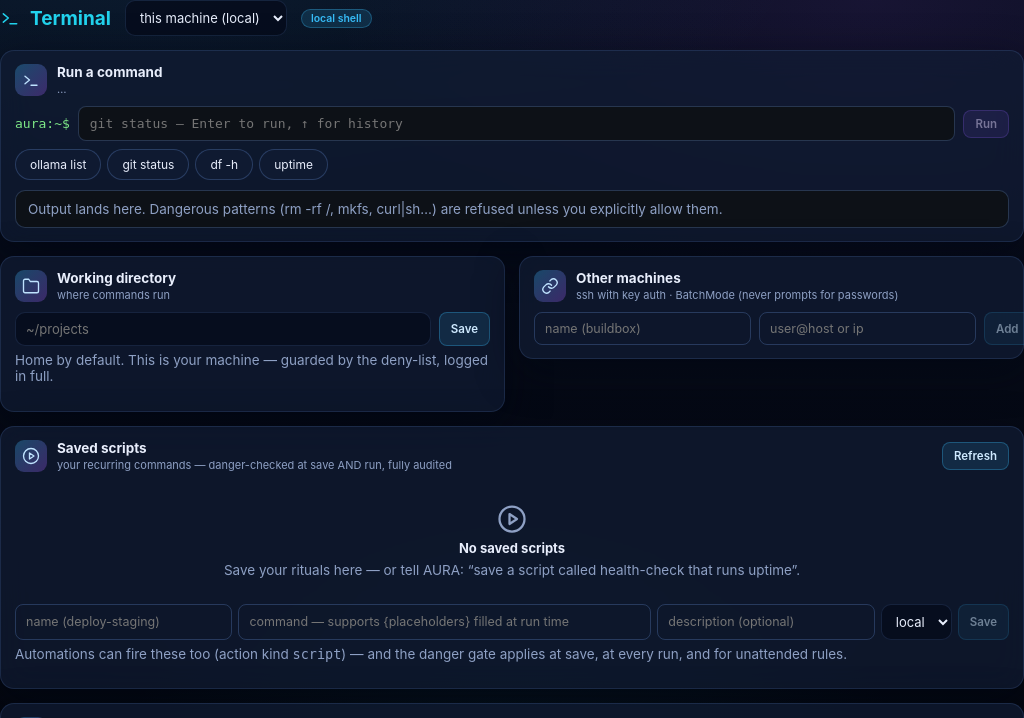
Test: Terminal › surfaces refusals loudly
The width and height of the screenshot is (1024, 718).
In the field named "terminal command": (517, 124) [78,106,955,141], type "rm -rf /"
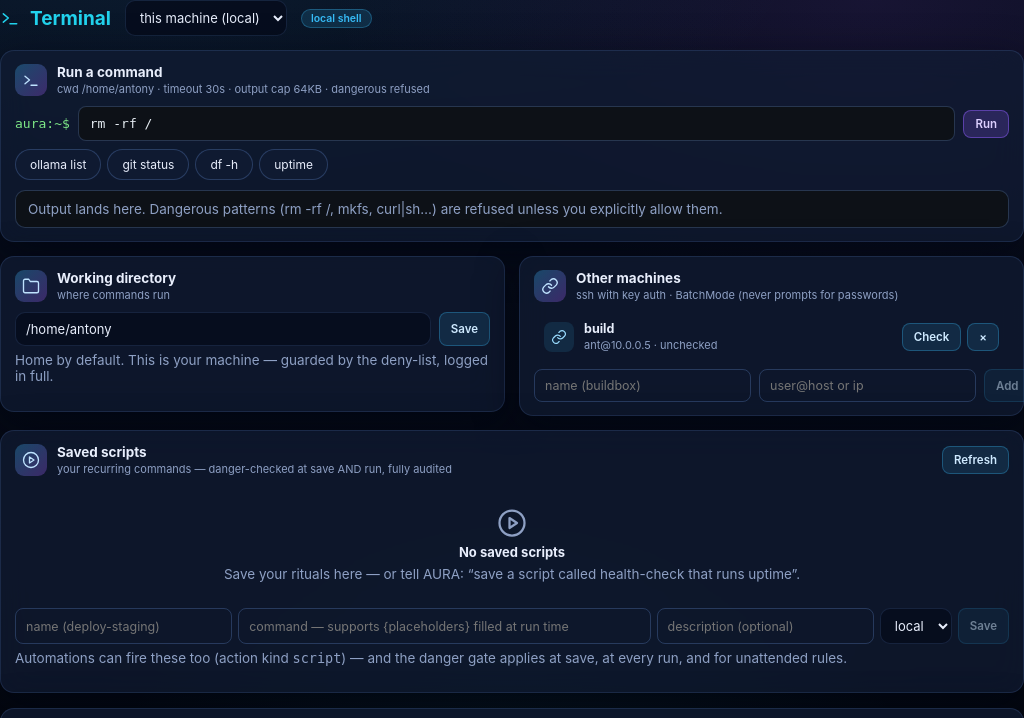
Press Enter in the field named "terminal command", box [78,106,955,141]
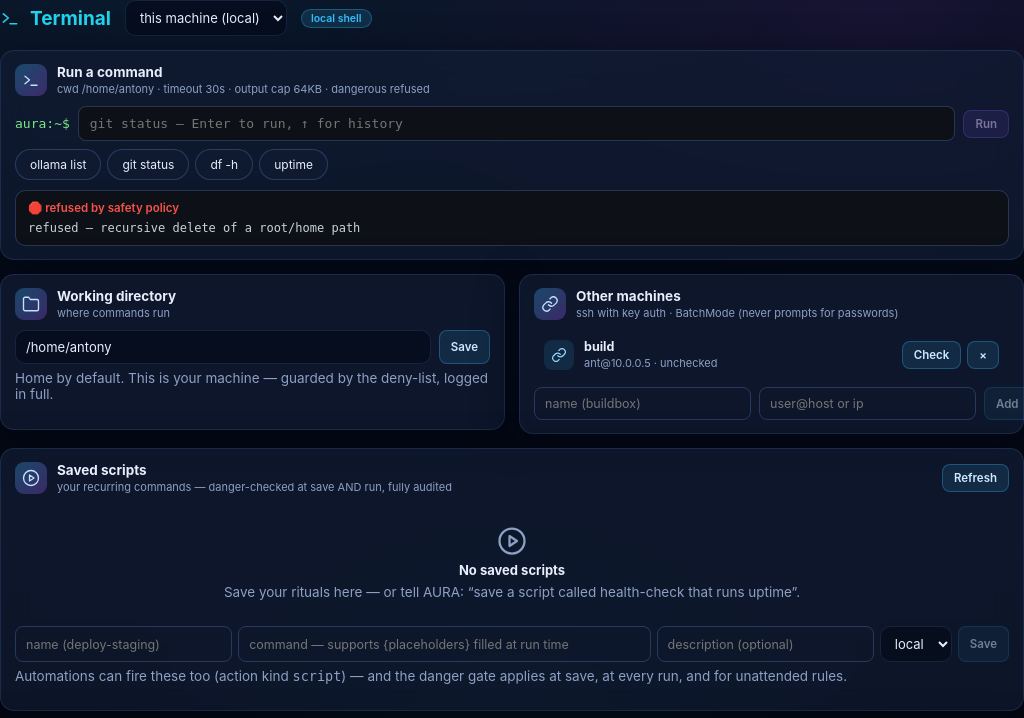
Expected: the text with test id "term-meta" shows "refused by safety policy", [28,201,179,215]
